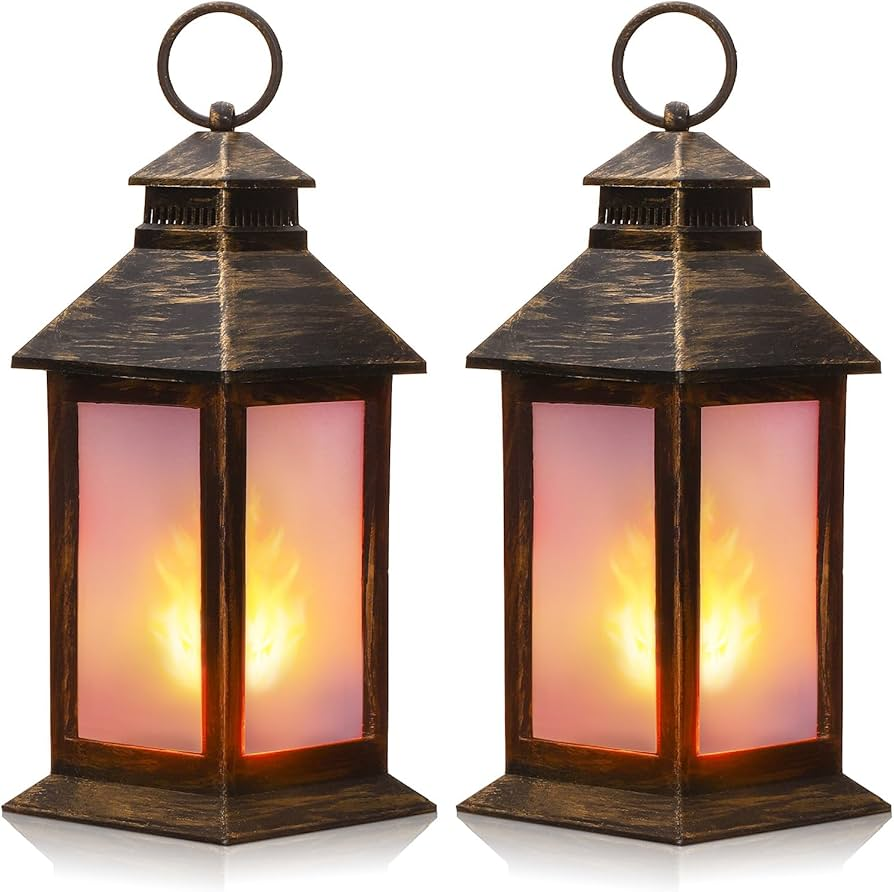Open-Flame-Hazard: (443, 4, 894, 850), (5, 8, 443, 852)
